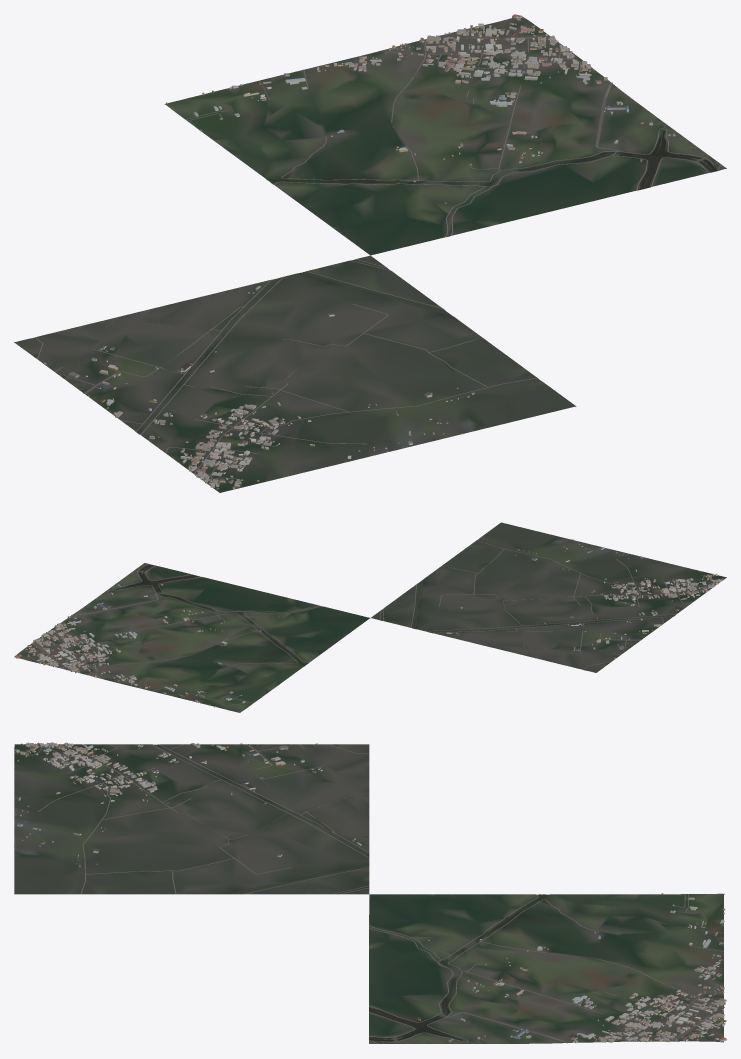
3 views of the same model, one above another, from view 1: azimuth 30°, elevation 25°; view 2: azimuth 150°, elevation 25°; view 3: azimuth 270°, elevation 25° (orthographic). The views are drawn at different scales.
Visible parts, largest first — view 1: ground, buildings, roads, water; view 2: ground, buildings, roads, water; view 3: ground, buildings, roads, water.
Boxes of the visible parts, x1=… form: ground: x1=14, y1=17, x2=726, y2=492; buildings: x1=44, y1=14, x2=675, y2=489; roads: x1=35, y1=31, x2=721, y2=484; water: x1=170, y1=131, x2=716, y2=395; ground: x1=14, y1=522, x2=726, y2=712; buildings: x1=15, y1=539, x2=723, y2=712; roads: x1=32, y1=540, x2=719, y2=703; water: x1=116, y1=564, x2=615, y2=663; ground: x1=14, y1=744, x2=723, y2=1043; buildings: x1=14, y1=742, x2=726, y2=1042; roads: x1=25, y1=744, x2=724, y2=1043; water: x1=207, y1=771, x2=542, y2=1041.
Size of the model in its own units: 2810 by 23.19 by 2814.
